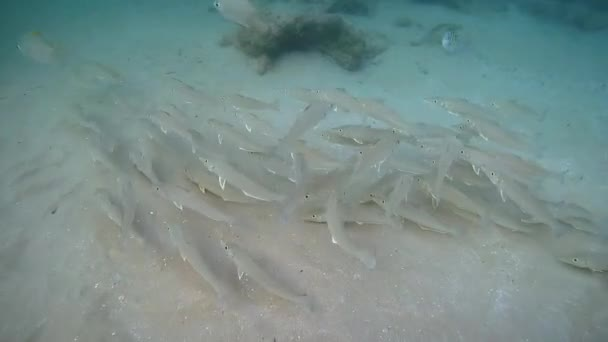kiss: (216, 234, 320, 310)
